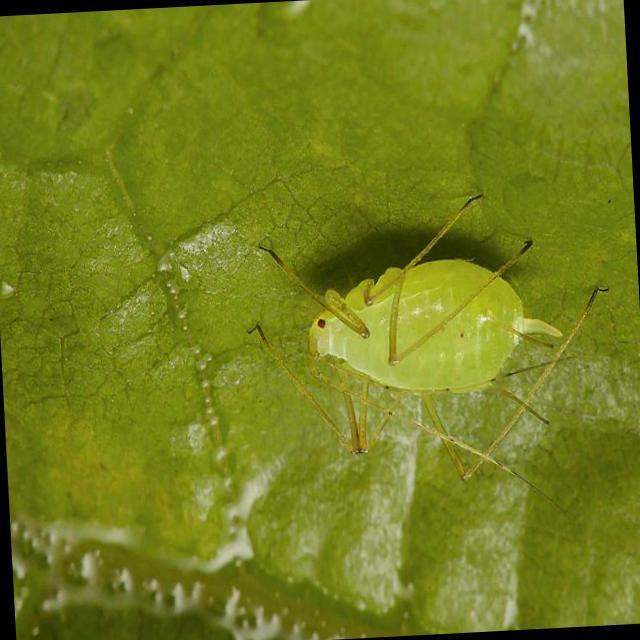aphid: (207, 168, 587, 523)
